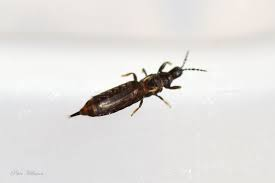Phlaeothripidae: (64, 49, 207, 121)
